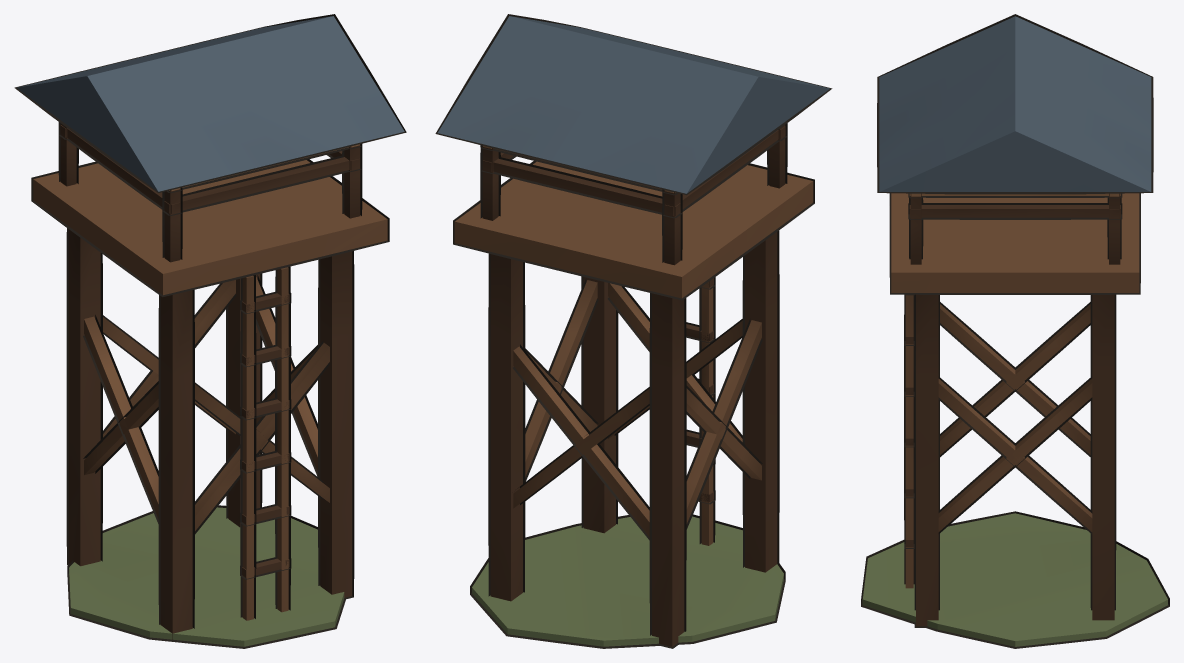
File: tour_guet_bois.glb
3 views of the same model, side by side, from view 1: azimuth 30°, elevation 25°; view 2: azimuth 150°, elevation 25°; view 3: azimuth 270°, elevation 25° (orthographic). The views are drawn at different scales.
Parts seen in each view (by area): view 1: tour_guet_bois, tour_guet_bois_outline; view 2: tour_guet_bois, tour_guet_bois_outline; view 3: tour_guet_bois, tour_guet_bois_outline.
Part boxes in pixels (<box>): tour_guet_bois: <box>16,16,404,646</box>; tour_guet_bois_outline: <box>14,14,406,648</box>; tour_guet_bois: <box>437,16,830,646</box>; tour_guet_bois_outline: <box>435,14,832,648</box>; tour_guet_bois: <box>862,16,1167,646</box>; tour_guet_bois_outline: <box>861,14,1169,648</box>.
Bounding box in the file's own units: 1.91 × 3.54 × 1.93.
